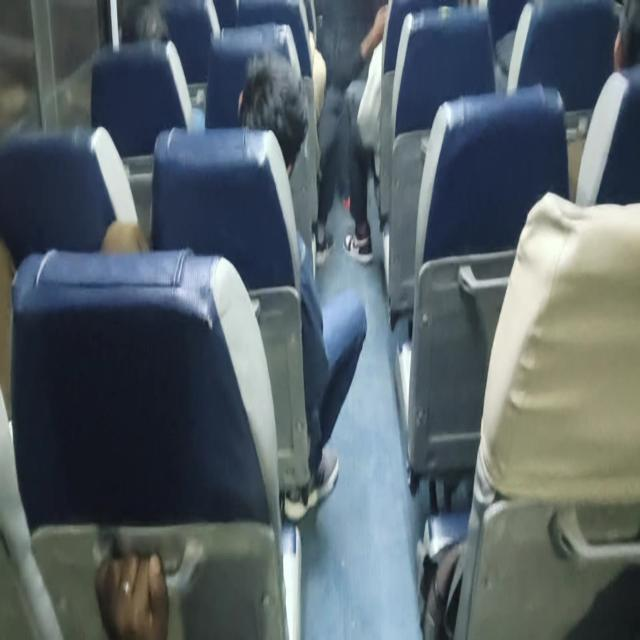person: (236, 62, 302, 181), (116, 0, 170, 64), (601, 0, 640, 87)
